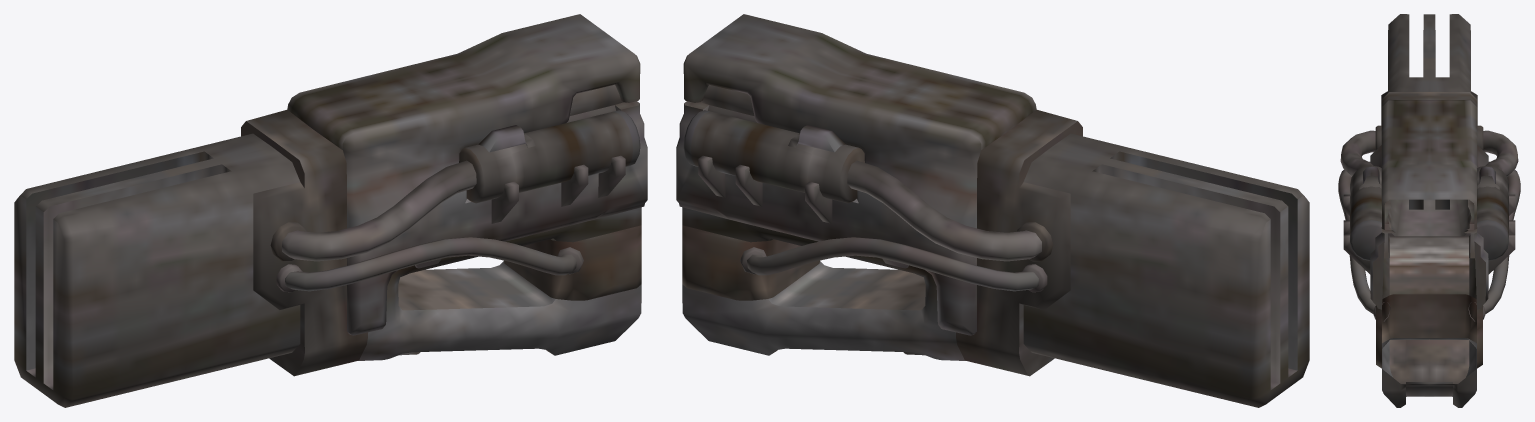
The model's file is HeavyWeapons_Vladof_Stock_1.obj.
The picture shows the model from 3 angles, left to right: view 1: azimuth 30°, elevation 25°; view 2: azimuth 150°, elevation 25°; view 3: azimuth 270°, elevation 25°; orthographic projection. The views are drawn at different scales.
Visible parts, largest first — view 1: SK_HW_VLA.455, SK_HW_VLA.457, SK_HW_VLA.466, SK_HW_VLA.467, SK_HW_VLA.463, SK_HW_VLA.461, SK_HW_VLA.462, SK_HW_VLA.472; view 2: SK_HW_VLA.455, SK_HW_VLA.456, SK_HW_VLA.464, SK_HW_VLA.465, SK_HW_VLA.460, SK_HW_VLA.458, SK_HW_VLA.459, SK_HW_VLA.469; view 3: SK_HW_VLA.455, SK_HW_VLA.456, SK_HW_VLA.457, SK_HW_VLA.464, SK_HW_VLA.466, SK_HW_VLA.465, SK_HW_VLA.467, SK_HW_VLA.458, SK_HW_VLA.461.
Part boxes in pixels (x1=…): SK_HW_VLA.455: x1=14, y1=14, x2=647, y2=407; SK_HW_VLA.457: x1=459, y1=110, x2=640, y2=203; SK_HW_VLA.466: x1=282, y1=160, x2=476, y2=261; SK_HW_VLA.467: x1=285, y1=237, x2=576, y2=291; SK_HW_VLA.463: x1=491, y1=181, x2=518, y2=223; SK_HW_VLA.461: x1=598, y1=155, x2=625, y2=197; SK_HW_VLA.462: x1=561, y1=164, x2=588, y2=206; SK_HW_VLA.472: x1=270, y1=222, x2=306, y2=261; SK_HW_VLA.455: x1=676, y1=14, x2=1309, y2=407; SK_HW_VLA.456: x1=683, y1=110, x2=864, y2=203; SK_HW_VLA.464: x1=847, y1=160, x2=1041, y2=261; SK_HW_VLA.465: x1=747, y1=237, x2=1038, y2=291; SK_HW_VLA.460: x1=805, y1=181, x2=832, y2=223; SK_HW_VLA.458: x1=698, y1=155, x2=725, y2=197; SK_HW_VLA.459: x1=735, y1=164, x2=762, y2=206; SK_HW_VLA.469: x1=1017, y1=222, x2=1053, y2=261; SK_HW_VLA.455: x1=1370, y1=14, x2=1488, y2=407; SK_HW_VLA.456: x1=1477, y1=165, x2=1508, y2=260; SK_HW_VLA.457: x1=1350, y1=165, x2=1381, y2=260; SK_HW_VLA.464: x1=1483, y1=130, x2=1518, y2=176; SK_HW_VLA.466: x1=1340, y1=130, x2=1375, y2=176; SK_HW_VLA.465: x1=1483, y1=161, x2=1520, y2=313; SK_HW_VLA.467: x1=1338, y1=161, x2=1375, y2=313; SK_HW_VLA.458: x1=1488, y1=234, x2=1515, y2=274; SK_HW_VLA.461: x1=1343, y1=234, x2=1370, y2=274.
Bounding box in the file's own units: 38.5 × 18.56 × 14.13.
